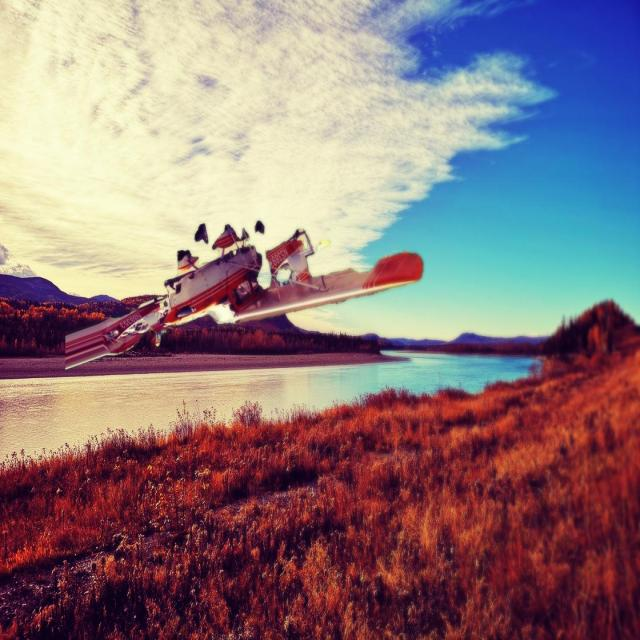airplane: (62, 220, 424, 370)
